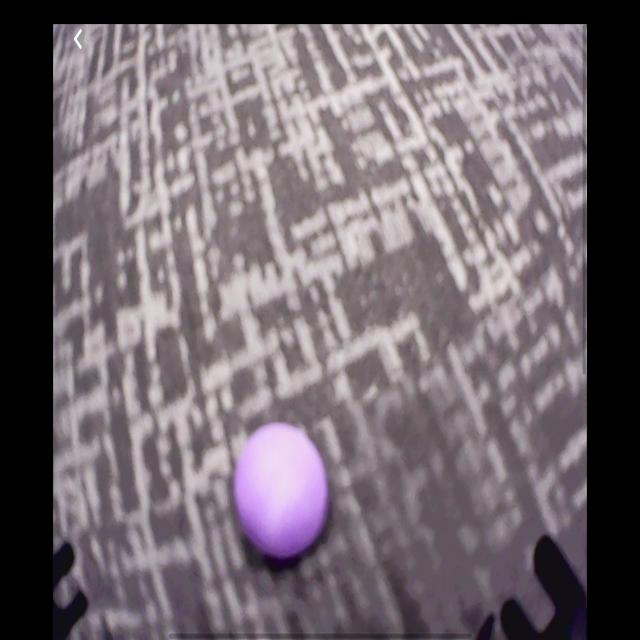ball: (234, 424, 332, 568)
